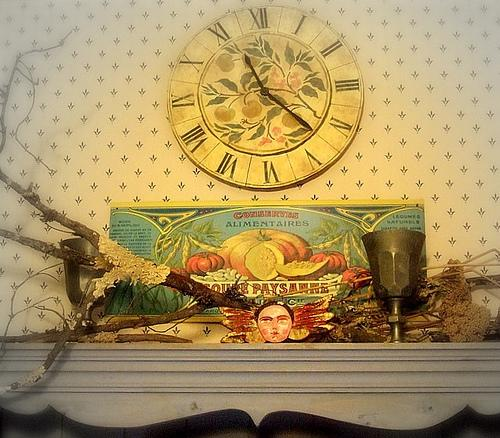pumpkin: (217, 228, 313, 281), (275, 258, 329, 280), (185, 252, 224, 277), (310, 250, 348, 275), (167, 268, 190, 292), (340, 266, 368, 282)
